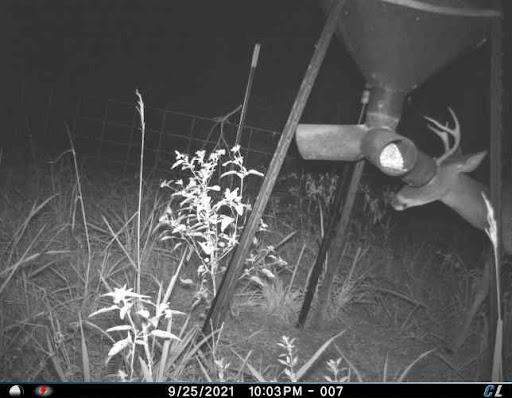Deer: (384, 101, 512, 357)
